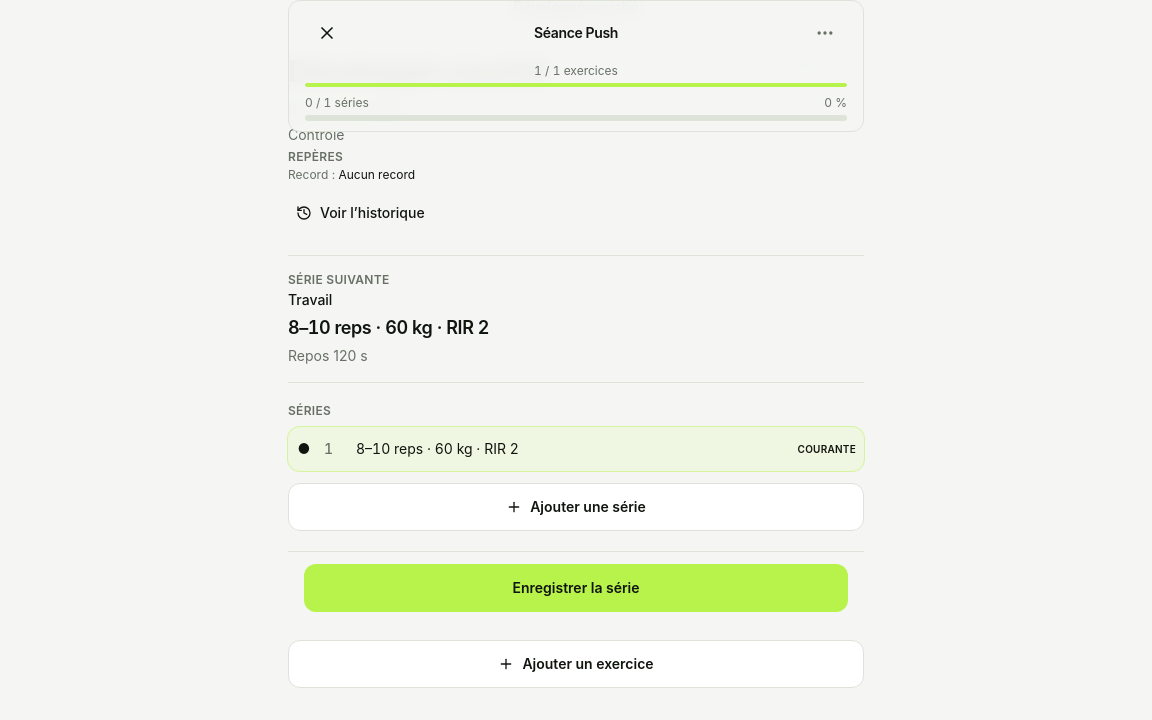
it: ActiveWorkoutPage › ajoute un exercice via le sheet et l’affiche sans reload
The width and height of the screenshot is (1152, 720).
(page scrolled)
Expected: the heading "Séance Push" is shown, [534,24,618,41]
Click the button "Ajouter un exercice". click: (576, 664)
box: [288,640,864,688]
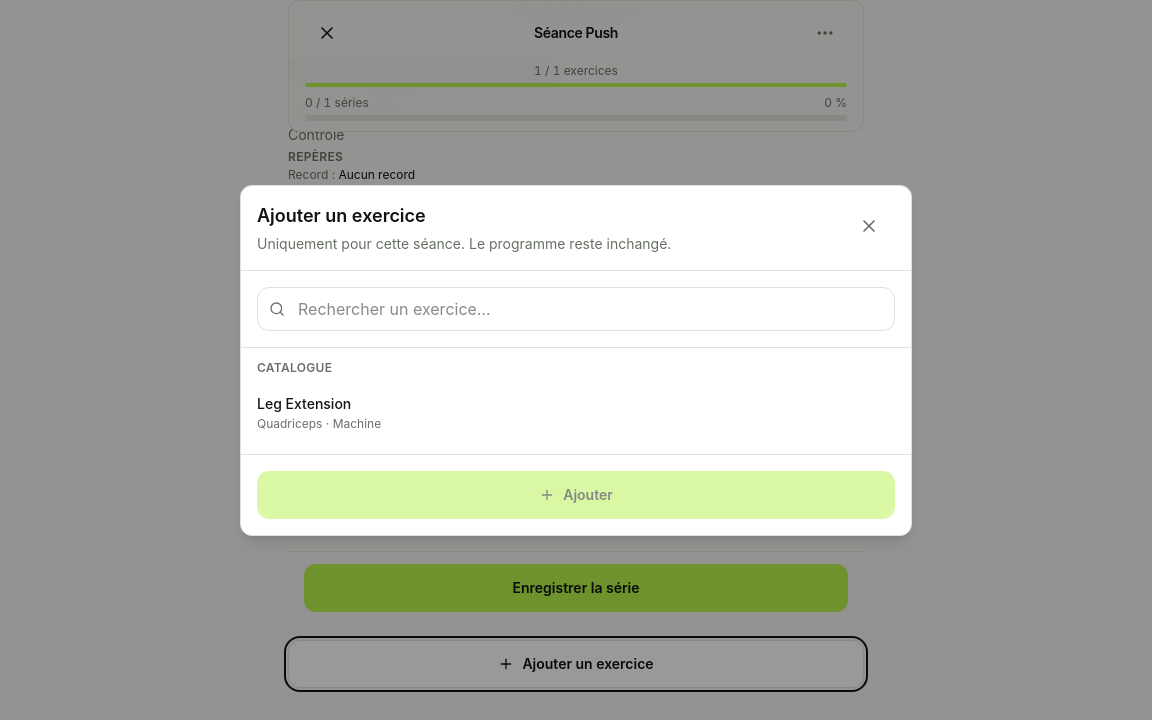
Now the heading "Ajouter un exercice" is shown, box [257,204,426,226]
Click the button "Leg Extension Quadriceps · Machine". click: (304, 403)
box: [257,384,895,442]
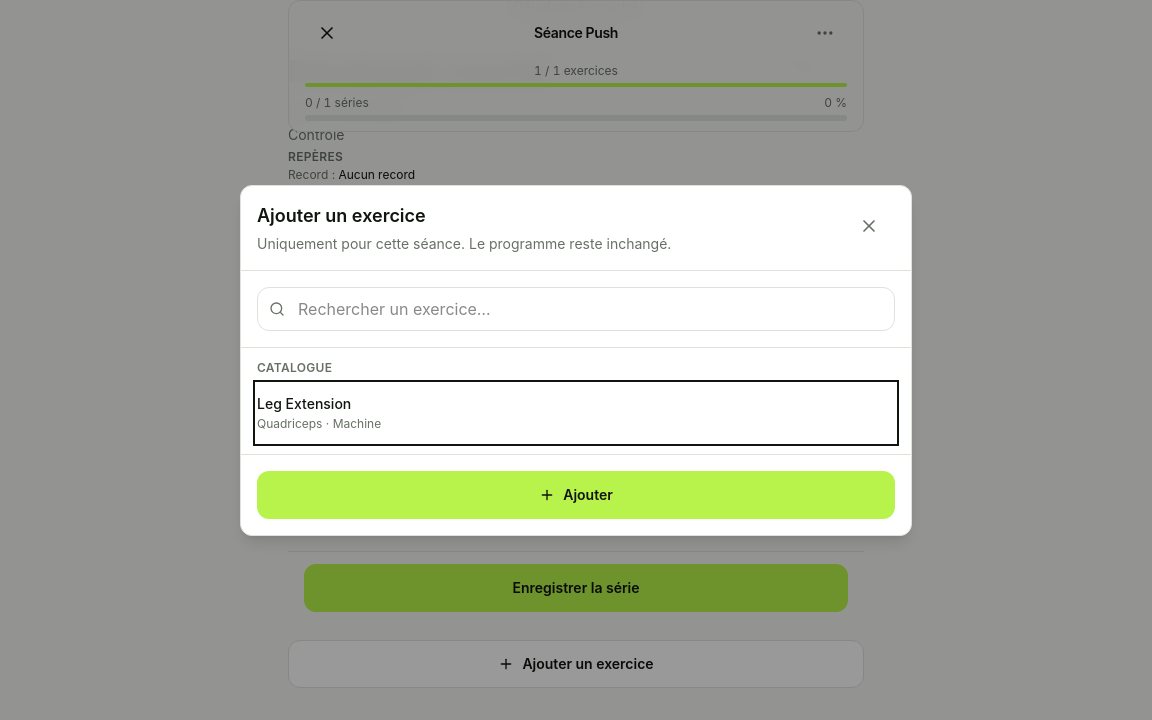
Click the button "Ajouter". click: (576, 494)
box: [257,470,895,518]
(page scrolled)
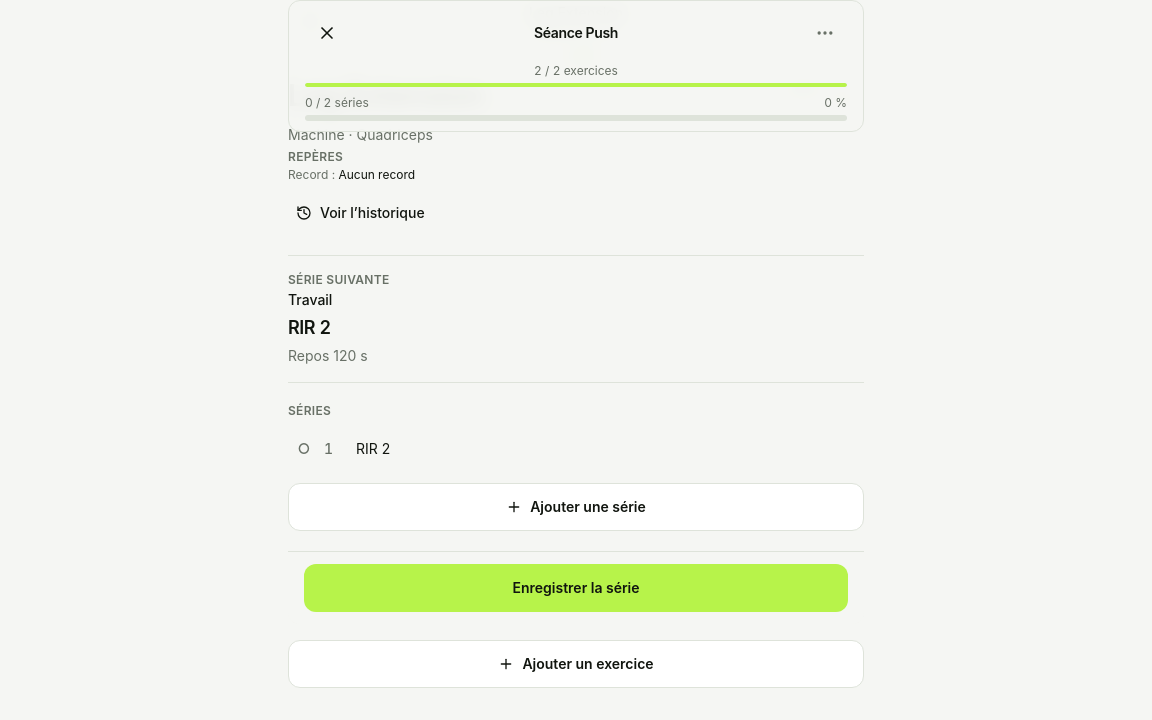
Now the heading "Leg Extension" is shown, box [288,77,482,113]
Now the button with aria-label "Série 1" is shown, box [288,427,864,471]
